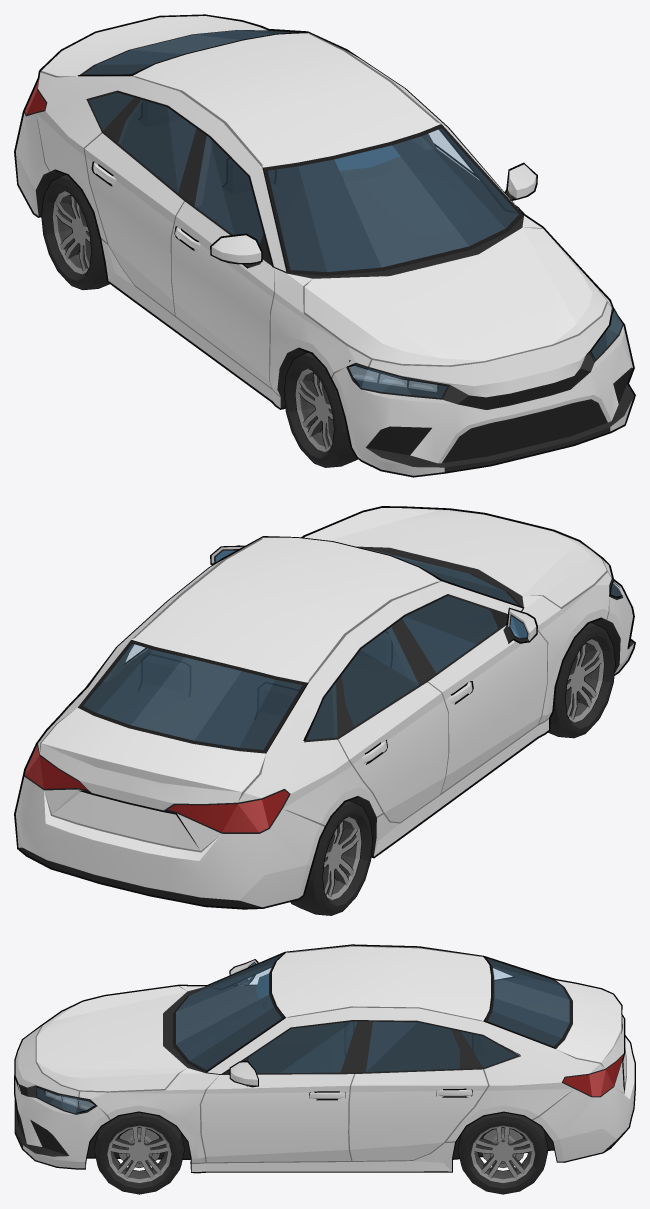
3 renders of one model, top to bottom at view 1: azimuth 30°, elevation 25°; view 2: azimuth 150°, elevation 25°; view 3: azimuth 270°, elevation 25°, orthographic. The views are drawn at different scales.
Visible parts, largest first — view 1: Civic_0_body_0, Civic_0_w_1_3, Civic_0_w_3_4; view 2: Civic_0_body_0, Civic_0_w_3_4, Civic_0_w_1_3; view 3: Civic_0_body_0, Civic_0_w_0_1, Civic_0_w_2_2.
Boxes of the visible parts, x1,y1,x2,y2 form: Civic_0_body_0: (14, 14, 635, 477); Civic_0_w_1_3: (284, 352, 357, 467); Civic_0_w_3_4: (41, 174, 109, 290); Civic_0_body_0: (14, 506, 635, 909); Civic_0_w_3_4: (290, 800, 372, 915); Civic_0_w_1_3: (548, 622, 615, 738); Civic_0_body_0: (14, 944, 635, 1173); Civic_0_w_0_1: (94, 1112, 184, 1194); Civic_0_w_2_2: (457, 1113, 548, 1194).
Size of the model in its own units: 2.04 by 1.42 by 4.59.
4 materials, 3 textured.
